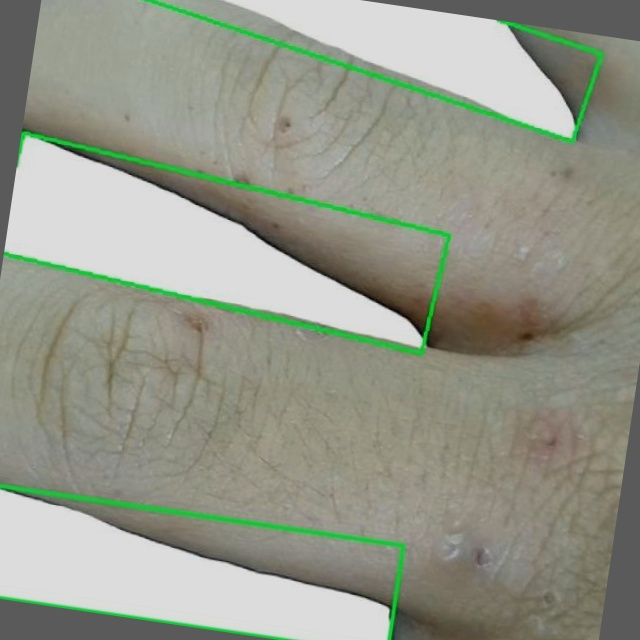Scabies: (3, 133, 449, 354), (147, 0, 601, 141), (0, 486, 403, 639)
